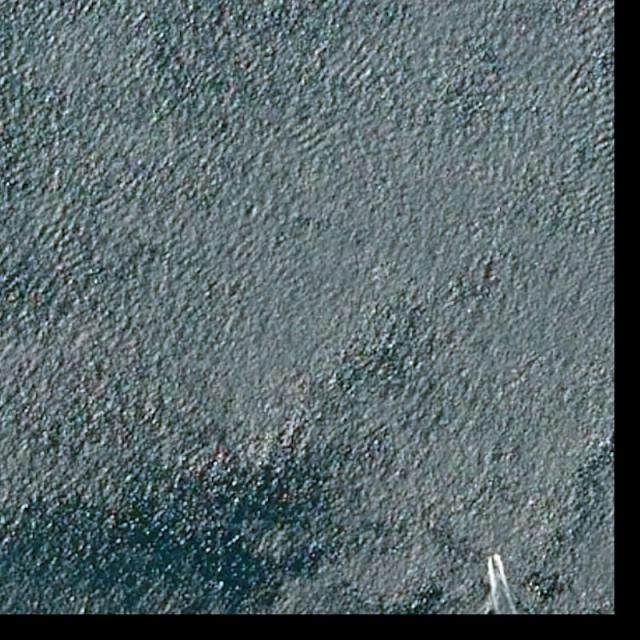ship: (492, 554, 500, 569)
